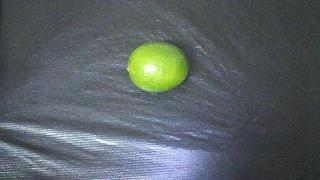LOCAL: (127, 42, 189, 92)
